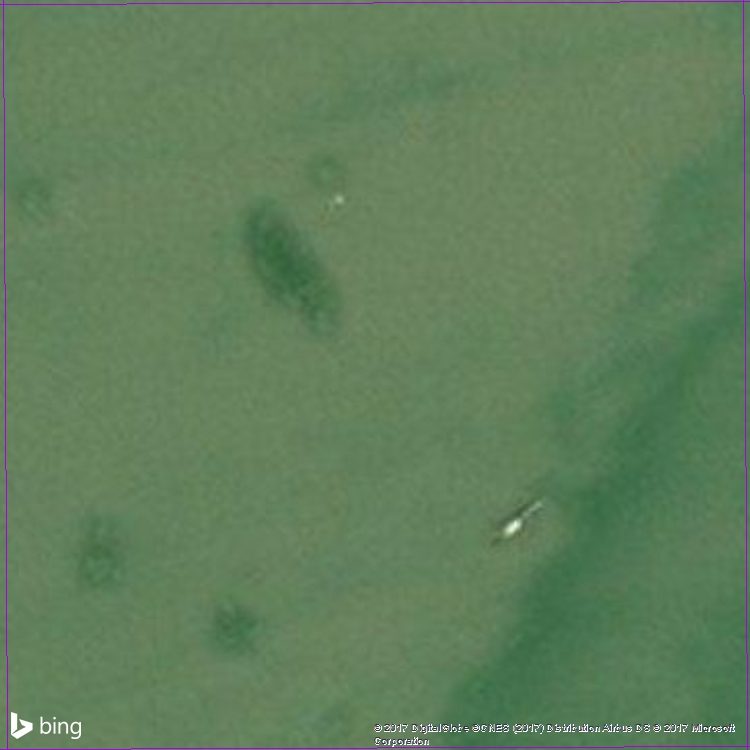boat: (489, 485, 554, 552)
